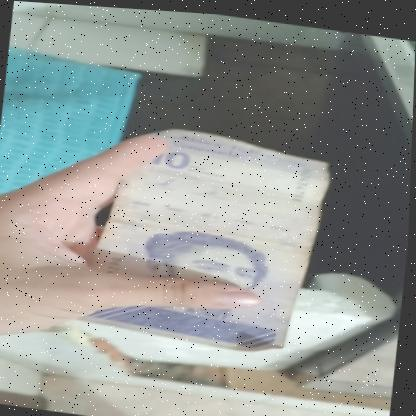vef_front: (72, 118, 332, 356)
